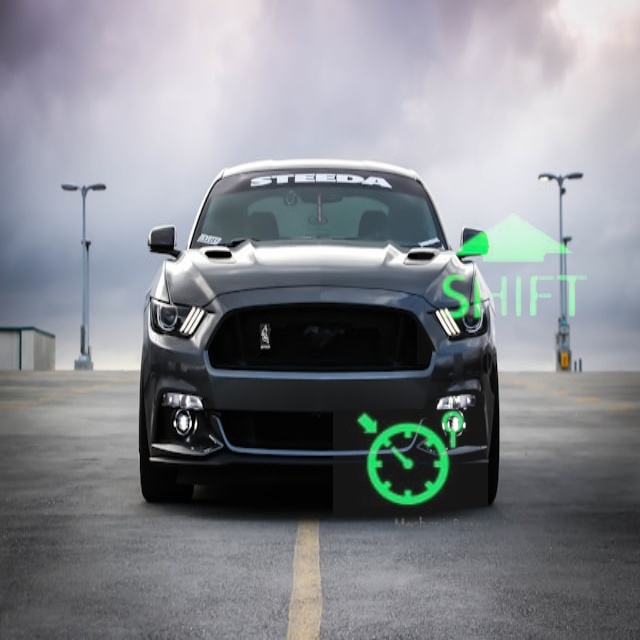symbol: (417, 170, 611, 364), (333, 382, 488, 537)
